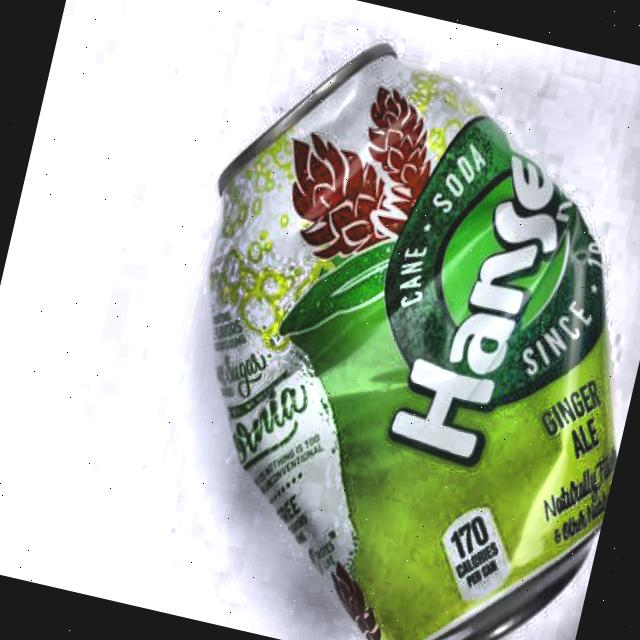metal: (119, 15, 640, 640)
